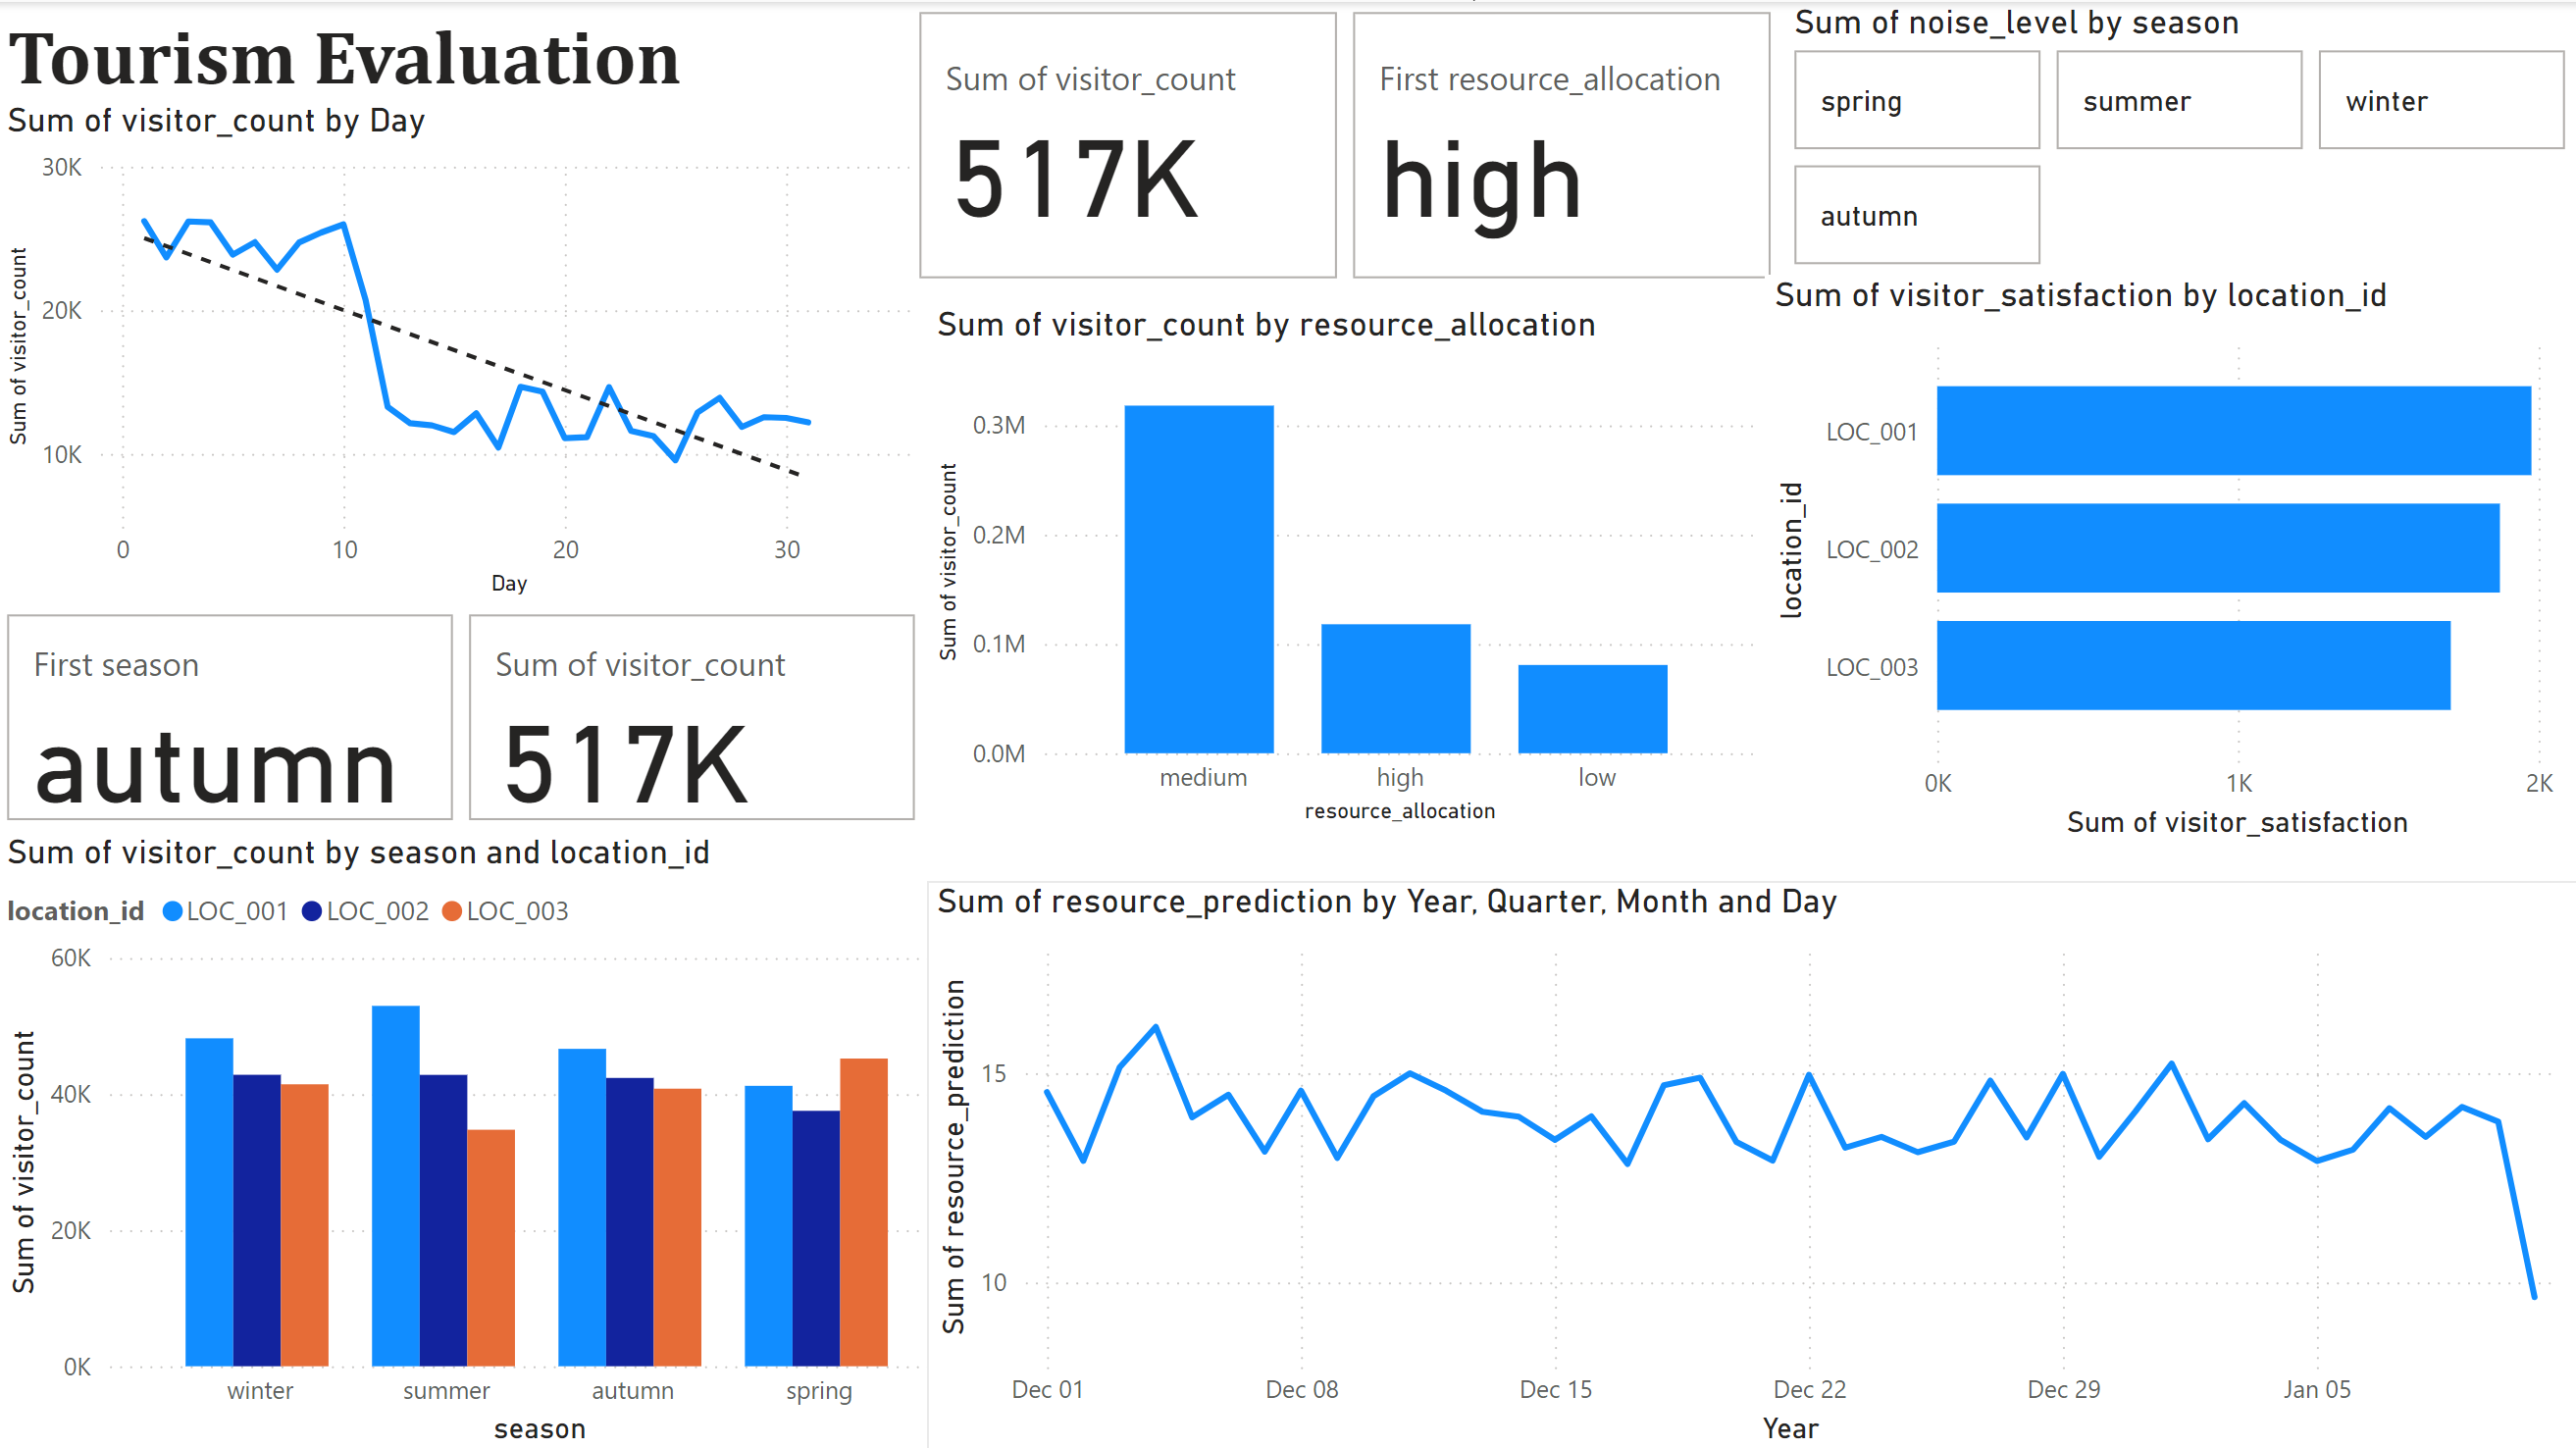

The dashboard page shown, as its layout file describes it:
{"tool":"powerbi","page":{"name":"Page 1","canvas":[1280,720],"ordinal":0},"visuals":[{"type":"clusteredColumnChart","fields":{"Category":["tourism_resource_dataset.season"],"Y":["Sum(tourism_resource_dataset.visitor_count)"],"Series":["tourism_resource_dataset.location_id"]},"box":[0,411.3,486.7,308.2],"z":0},{"type":"textbox","box":[0,0,383.5,70.7],"z":1000},{"type":"cardVisual","fields":{"Data":["Min(tourism_resource_dataset.season)","Sum(tourism_resource_dataset.visitor_count)"]},"box":[0,298.6,461,112.8],"z":2000},{"type":"lineChart","fields":{"Category":["tourism_resource_dataset.timestamp.Variation.Date Hierarchy.Day"],"Y":["Sum(tourism_resource_dataset.visitor_count)"]},"box":[0,48.6,461,250],"z":3000},{"type":"advancedSlicerVisual","fields":{"Values":["tourism_resource_dataset.season"]},"box":[886.1,0,393.9,135.2],"z":4000},{"type":"clusteredColumnChart","fields":{"Category":["tourism_resource_dataset.resource_allocation"],"Y":["Sum(tourism_resource_dataset.visitor_count)"]},"box":[461,149.8,415.3,261.6],"z":5000},{"type":"cardVisual","fields":{"Data":["Sum(tourism_resource_dataset.visitor_count)","Min(tourism_resource_dataset.resource_allocation)"]},"box":[452.3,0,433.8,143],"z":6000},{"type":"lineChart","fields":{"Y":["Sum(tourism_resource_dataset.resource_prediction)"],"Category":["tourism_resource_dataset.timestamp.Variation.Date Hierarchy.Year","tourism_resource_dataset.timestamp.Variation.Date Hierarchy.Quarter","tourism_resource_dataset.timestamp.Variation.Date Hierarchy.Month","tourism_resource_dataset.timestamp.Variation.Date Hierarchy.Day"]},"box":[461,435.7,819,284],"z":7000},{"type":"barChart","fields":{"Y":["Sum(tourism_resource_dataset.visitor_satisfaction)"],"Category":["tourism_resource_dataset.location_id"]},"box":[876.4,135.2,403.6,284],"z":8000}]}

Visuals, with their boxes in screenshot pixels (x1, y1, x2, y2), scaled from the page's 1280x720 canvas onto the 2576x1448 screenshot:
clusteredColumnChart - tourism_resource_dataset.season x Sum(tourism_resource_dataset.visitor_count): 0:827:979:1447
textbox: 0:0:772:142
cardVisual - Min(tourism_resource_dataset.season) x Sum(tourism_resource_dataset.visitor_count): 0:600:928:827
lineChart - tourism_resource_dataset.timestamp.Variation.Date Hierarchy.Day x Sum(tourism_resource_dataset.visitor_count): 0:98:928:600
advancedSlicerVisual - tourism_resource_dataset.season: 1783:0:2575:272
clusteredColumnChart - tourism_resource_dataset.resource_allocation x Sum(tourism_resource_dataset.visitor_count): 928:301:1764:827
cardVisual - Sum(tourism_resource_dataset.visitor_count) x Min(tourism_resource_dataset.resource_allocation): 910:0:1783:287
lineChart - Sum(tourism_resource_dataset.resource_prediction) x tourism_resource_dataset.timestamp.Variation.Date Hierarchy.Year: 928:876:2575:1447
barChart - Sum(tourism_resource_dataset.visitor_satisfaction) x tourism_resource_dataset.location_id: 1764:272:2575:843
